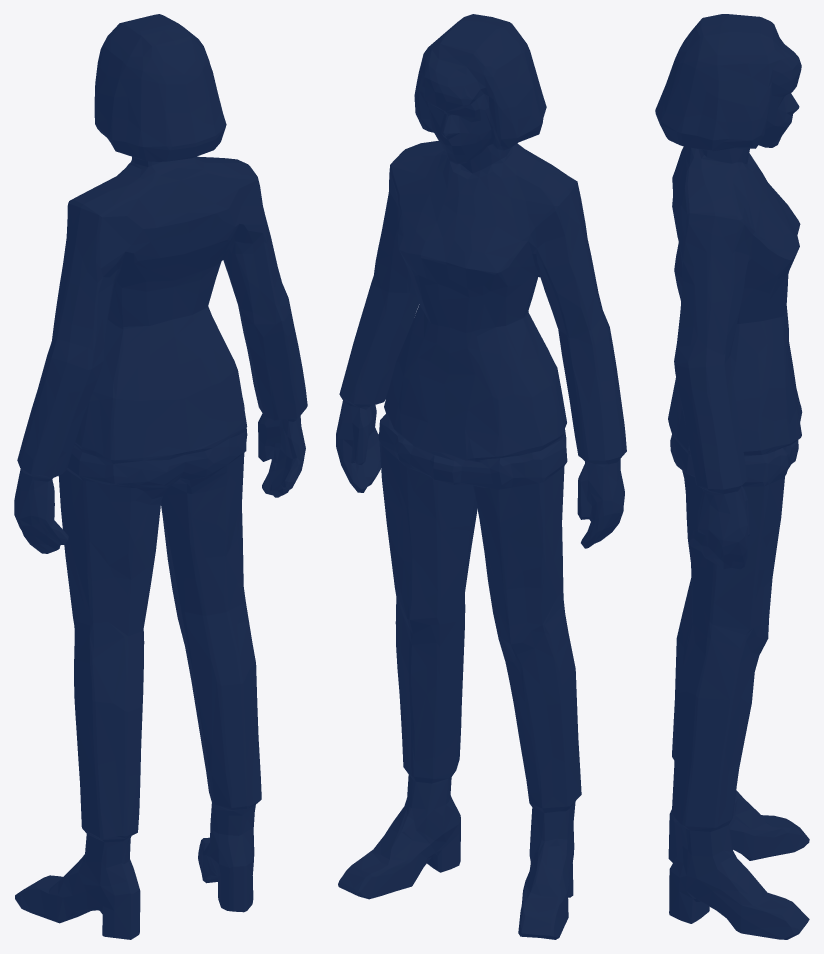
Rendered from char_eve_sterling.glb.
The picture shows the model from 3 angles, left to right: view 1: azimuth 30°, elevation 25°; view 2: azimuth 150°, elevation 25°; view 3: azimuth 270°, elevation 25°; orthographic projection.
Visible parts, largest first — view 1: char_eve_sterling; view 2: char_eve_sterling; view 3: char_eve_sterling.
Boxes of the visible parts, x1=… form: char_eve_sterling: x1=14, y1=14, x2=307, y2=939; char_eve_sterling: x1=336, y1=14, x2=626, y2=939; char_eve_sterling: x1=655, y1=14, x2=809, y2=939.
Size of the model in its own units: 0.5792 by 1.7 by 0.2747.
